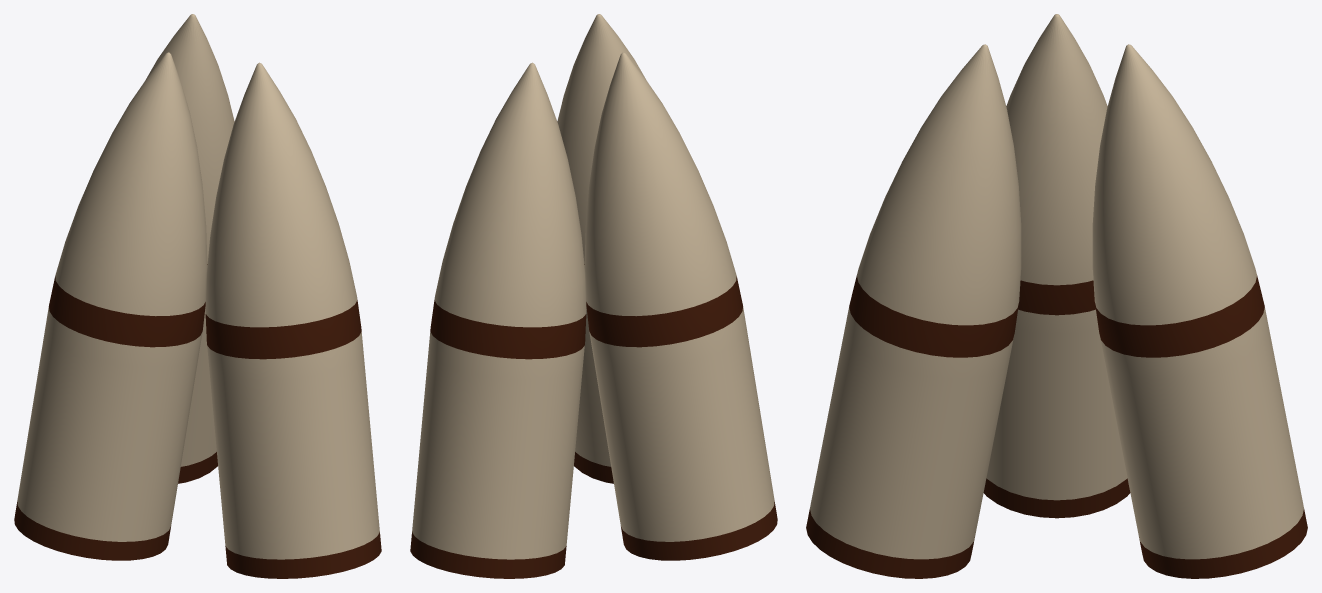
Rendered from Bullet_Pickup.glb.
The picture shows the model from 3 angles, left to right: view 1: azimuth 30°, elevation 25°; view 2: azimuth 150°, elevation 25°; view 3: azimuth 270°, elevation 25°; orthographic projection. The views are drawn at different scales.
Visible parts, largest first — view 1: Bullets_Pickup; view 2: Bullets_Pickup; view 3: Bullets_Pickup.
Part boxes in pixels (x1,y1,x2,y2): Bullets_Pickup: [14, 14, 381, 578]; Bullets_Pickup: [410, 14, 777, 578]; Bullets_Pickup: [806, 14, 1307, 578].
Size of the model in its own units: 0.2989 by 0.5022 by 0.4477.
